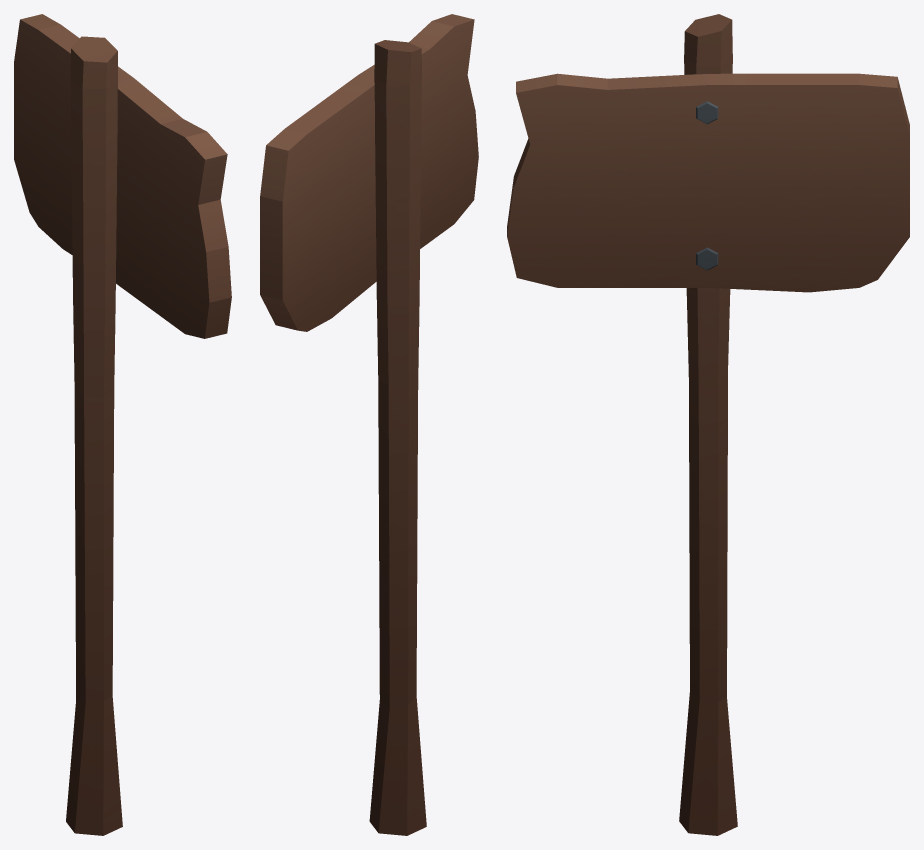
File: znak1.fbx
3 views of the same model, side by side, from view 1: azimuth 30°, elevation 25°; view 2: azimuth 150°, elevation 25°; view 3: azimuth 270°, elevation 25° (orthographic). The views are drawn at different scales.
Parts seen in each view (by area): view 1: znak1; view 2: znak1; view 3: znak1.
Boxes of the visible parts, x1=… form: znak1: x1=14, y1=14, x2=231, y2=835; znak1: x1=260, y1=14, x2=478, y2=835; znak1: x1=507, y1=14, x2=909, y2=835.
Bounding box in the file's own units: 17.6 × 201 × 91.41.
